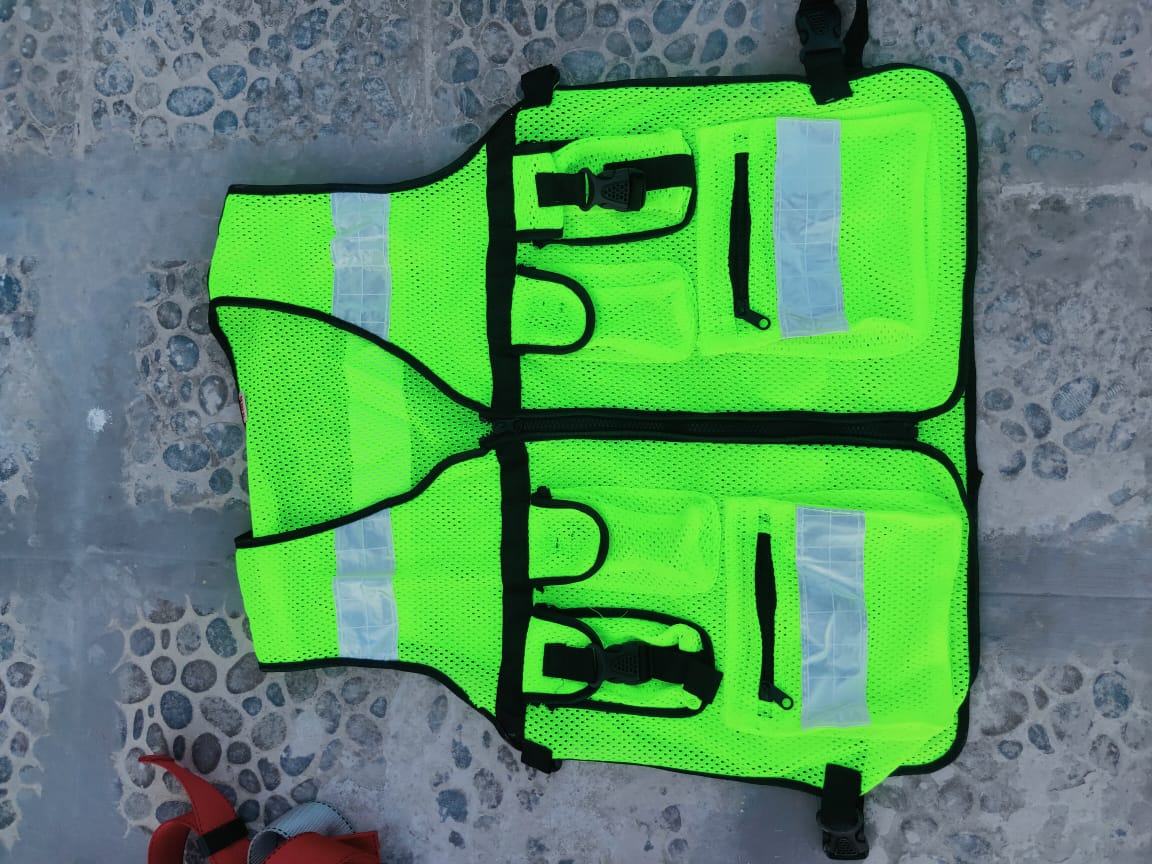ROMPI: (221, 105, 951, 761)
